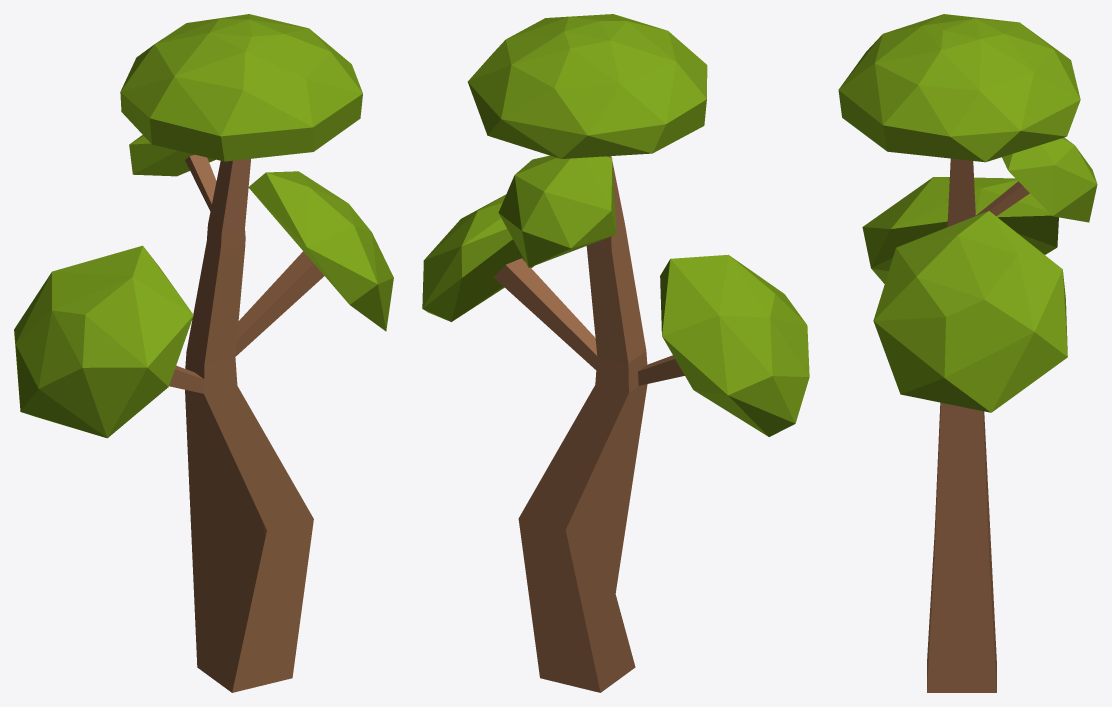
Rendered from Tree 2601.fbx.
The picture shows the model from 3 angles, left to right: view 1: azimuth 30°, elevation 25°; view 2: azimuth 150°, elevation 25°; view 3: azimuth 270°, elevation 25°; orthographic projection.
Visible parts, largest first — view 1: Circle.004; view 2: Circle.004; view 3: Circle.004.
Boxes of the visible parts, box(x1,y1,x2,y2) form: Circle.004: box(14, 14, 393, 692); Circle.004: box(422, 14, 809, 692); Circle.004: box(838, 14, 1097, 692).
Bounding box in the file's own units: 100 × 171 × 61.98.
